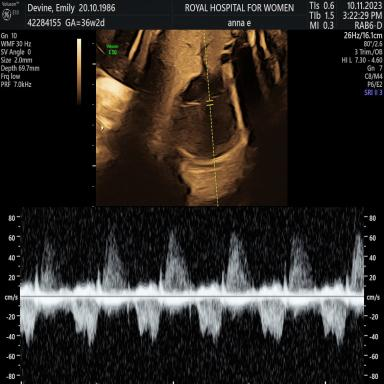Ultrasound-Waves: (27, 209, 360, 384)
